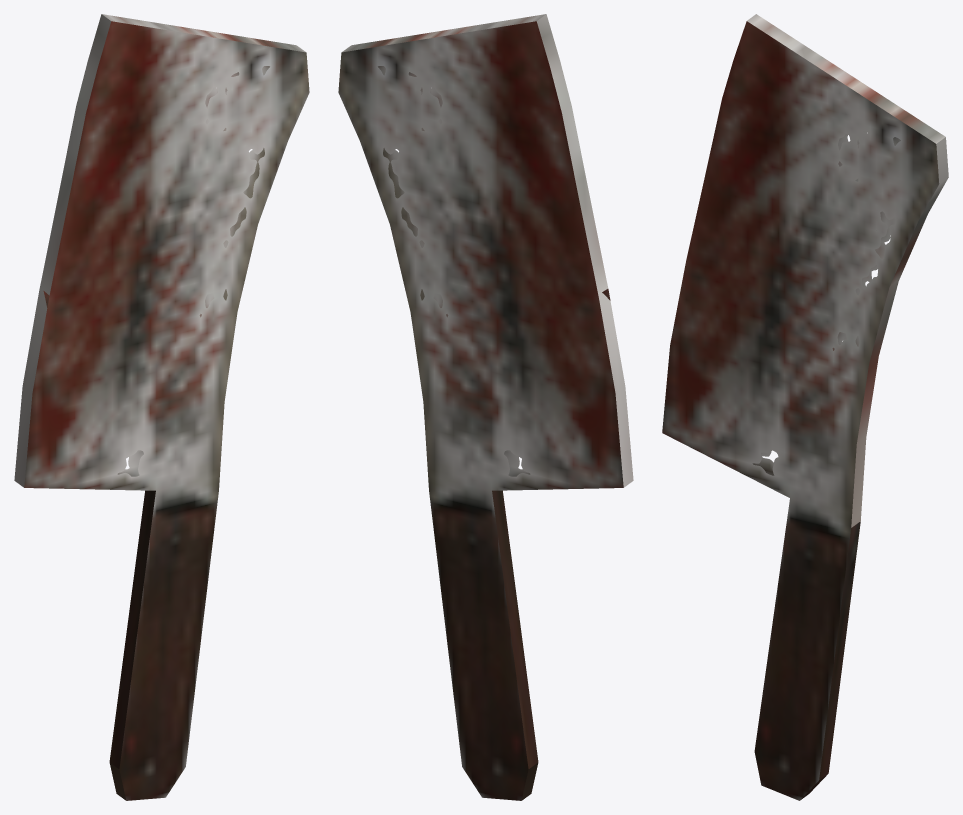
Rendered from butcher_knife.FBX.
3 views of the same model, side by side, from view 1: azimuth 30°, elevation 25°; view 2: azimuth 150°, elevation 25°; view 3: azimuth 330°, elevation 25° (orthographic). The views are drawn at different scales.
Visible parts, largest first — view 1: butcher_knife; view 2: butcher_knife; view 3: butcher_knife.
Part boxes in pixels (x1,y1,x2,y2): butcher_knife: (14,14,309,800); butcher_knife: (338,14,633,800); butcher_knife: (662,14,948,800).
Bounding box in the file's own units: 9.58 × 25.35 × 0.5742.
